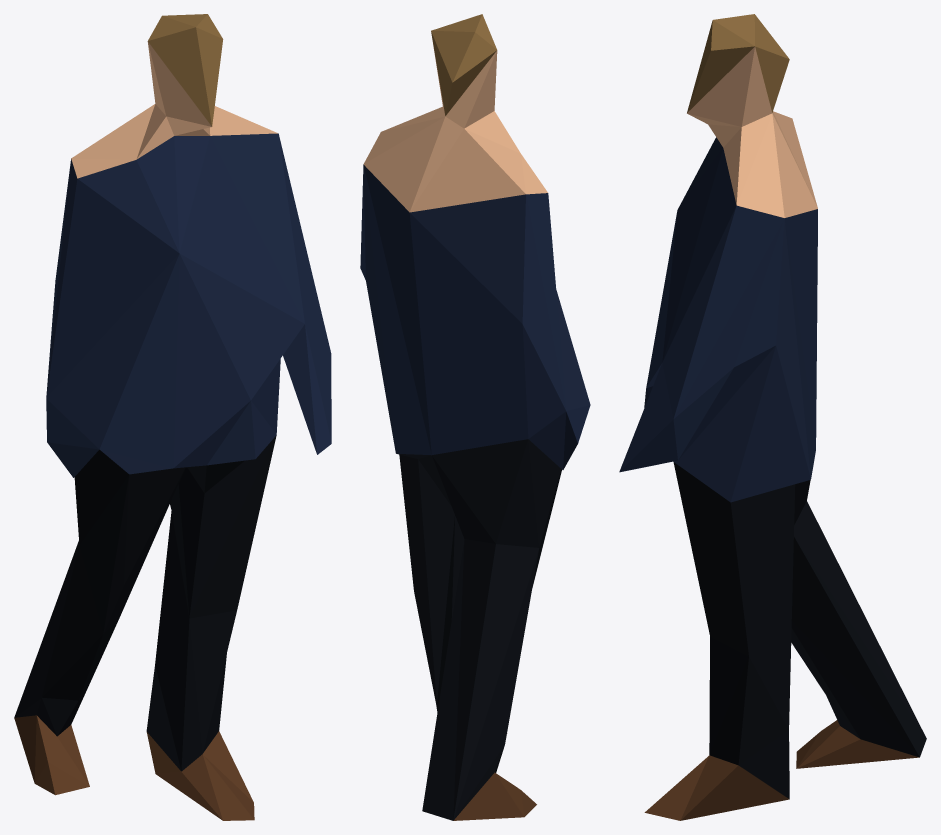
The model's file is walker-26.glb.
The picture shows the model from 3 angles, left to right: view 1: azimuth 30°, elevation 25°; view 2: azimuth 150°, elevation 25°; view 3: azimuth 270°, elevation 25°; orthographic projection. The views are drawn at different scales.
Visible parts, largest first — view 1: Man02; view 2: Man02; view 3: Man02.
Boxes of the visible parts, bbox=[...] form: Man02: bbox=[14, 14, 331, 820]; Man02: bbox=[360, 14, 590, 820]; Man02: bbox=[619, 14, 926, 820].
Bounding box in the file's own units: 0.5066 × 1.55 × 0.5535.
